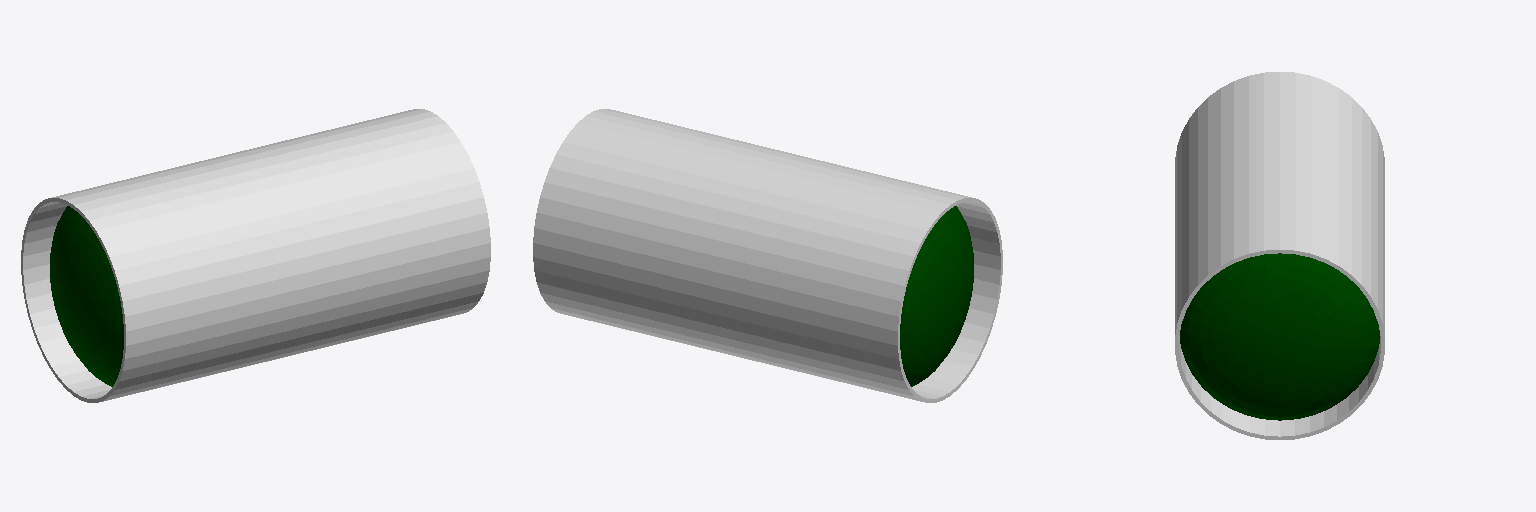
The model's file is Stage3_BasicVehicleStage__Rocket.obj.
The picture shows the model from 3 angles: view 1: azimuth 30°, elevation 25°; view 2: azimuth 150°, elevation 25°; view 3: azimuth 270°, elevation 25°; orthographic projection.
Parts seen in each view (by area): view 1: g_Stage_Mat, g_Tank_Mat; view 2: g_Stage_Mat, g_Tank_Mat; view 3: g_Stage_Mat, g_Tank_Mat.
Boxes of the visible parts, <box> form: g_Stage_Mat: <box>21,109,490,402</box>; g_Tank_Mat: <box>50,206,123,386</box>; g_Stage_Mat: <box>533,109,1002,402</box>; g_Tank_Mat: <box>900,206,973,386</box>; g_Stage_Mat: <box>1175,72,1384,439</box>; g_Tank_Mat: <box>1180,253,1379,420</box>.
Bounding box in the file's own units: 1.53 × 0.7663 × 0.7641.